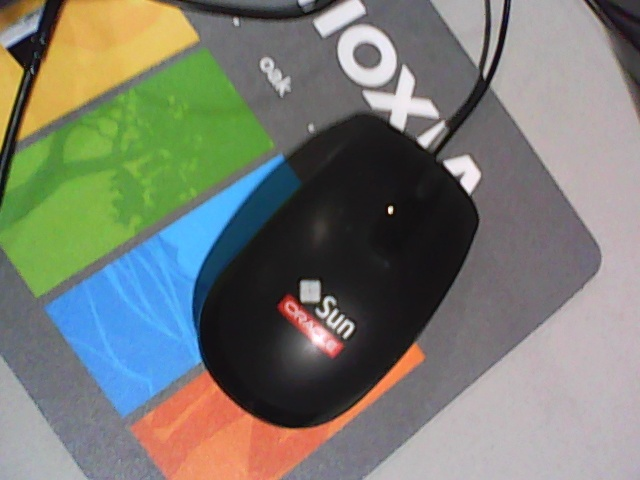mouse: (199, 119, 479, 428)
